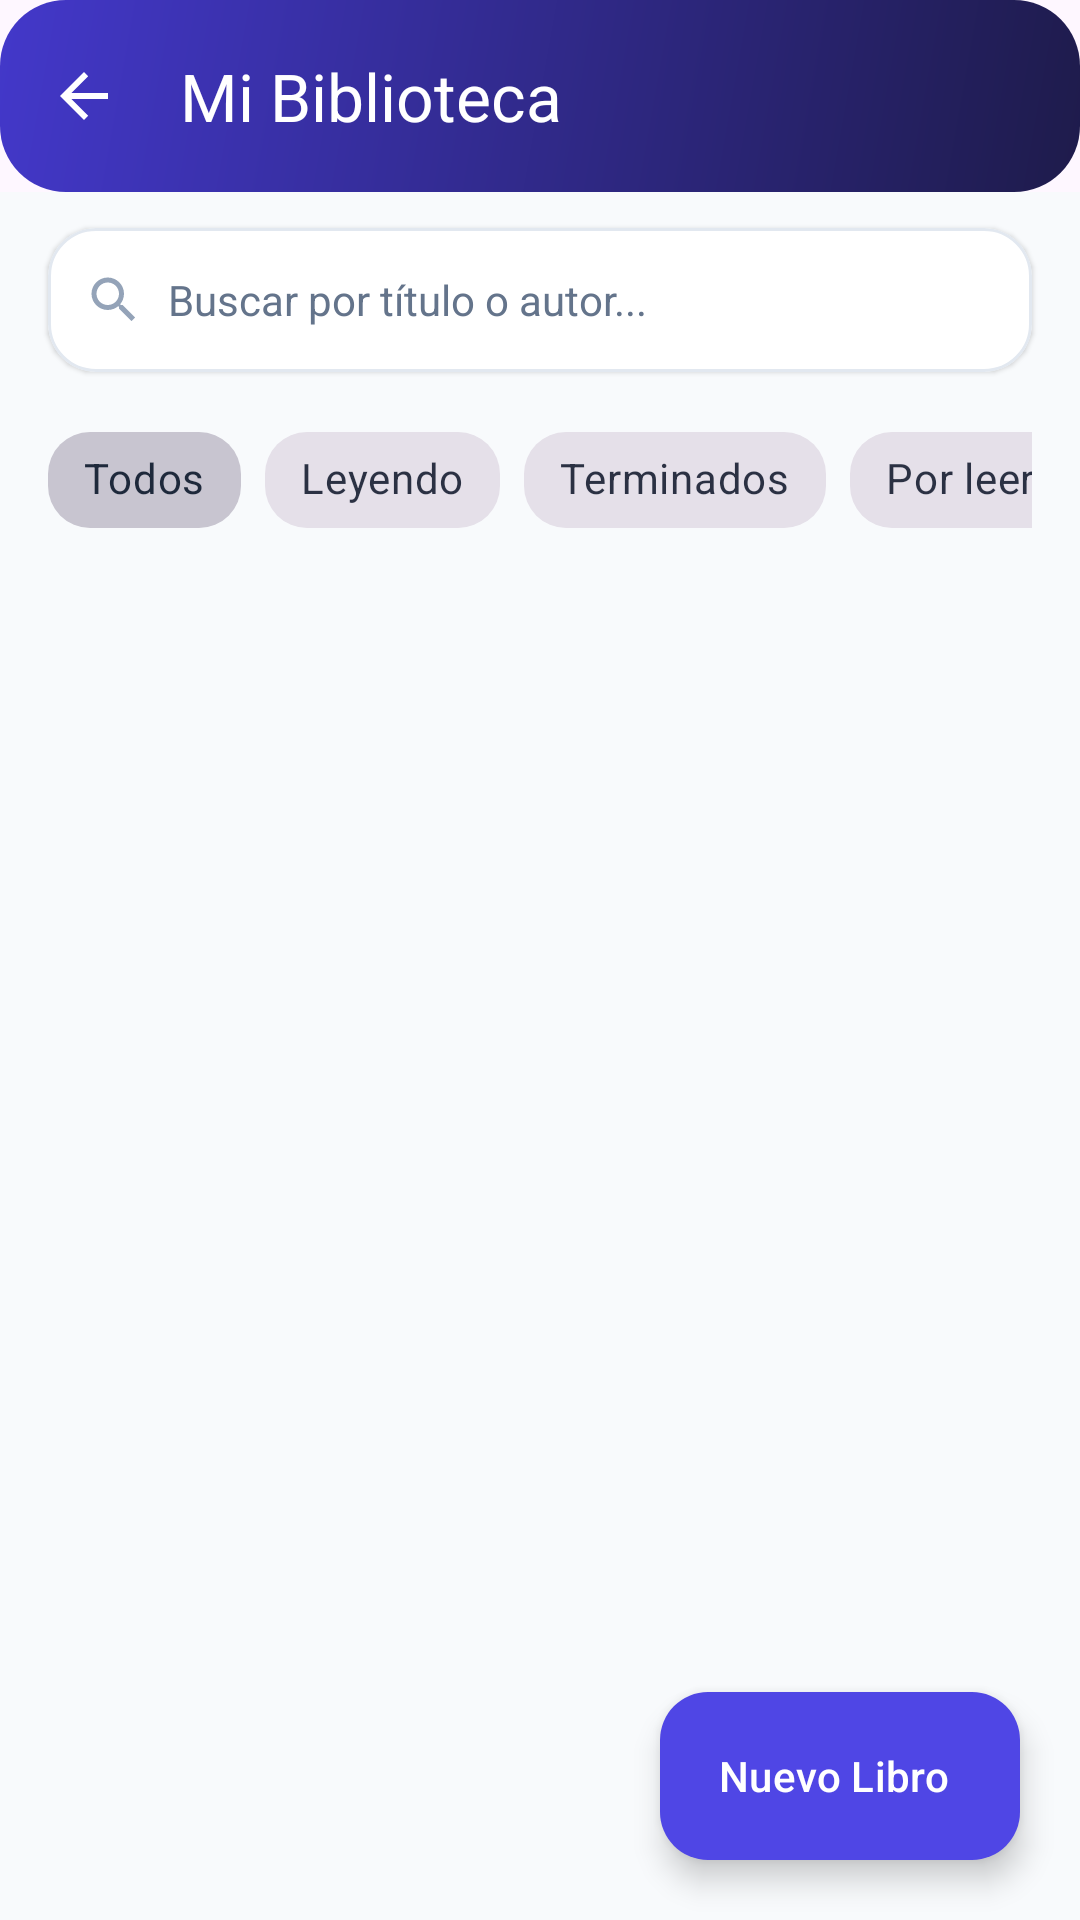

Screen size 1080w x 1920h. Icon name, then its center in pixels as (x,y):
search: (113,299)
